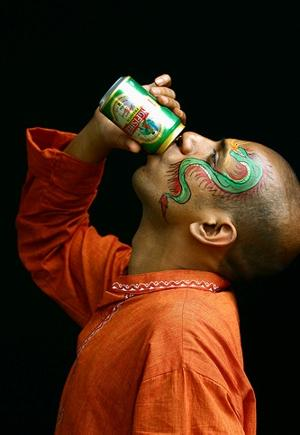person: (15, 74, 300, 434)
